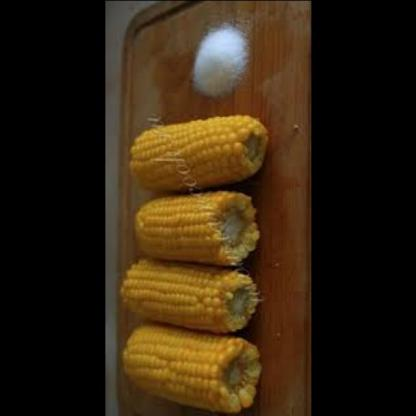corn: (116, 324, 258, 416), (130, 106, 268, 198), (114, 263, 258, 330), (133, 192, 262, 262)
